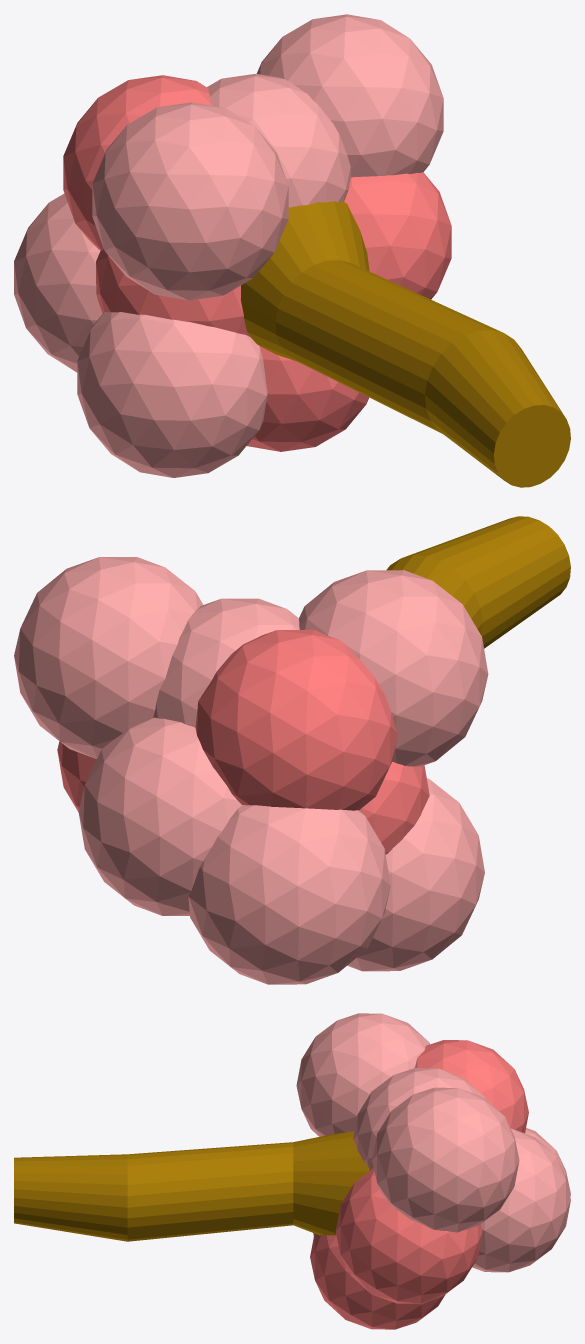
The model's file is tree_04.fbx.
3 views of the same model, one above another, from view 1: azimuth 30°, elevation 25°; view 2: azimuth 150°, elevation 25°; view 3: azimuth 270°, elevation 25° (orthographic). The views are drawn at different scales.
Visible parts, largest first — view 1: Mesh79, Mesh40, Mesh39, Mesh42, Mesh43, Mesh45, Mesh44, Mesh41, Mesh37, Mesh46; view 2: Mesh43, Mesh41, Mesh42, Mesh38, Mesh40, Mesh39, Mesh79, Mesh45, Mesh46, Mesh44; view 3: Mesh79, Mesh42, Mesh44, Mesh40, Mesh38, Mesh37, Mesh41, Mesh45.
Part boxes in pixels (bbox=[...]): Mesh79: bbox=[240, 201, 570, 487]; Mesh40: bbox=[92, 102, 288, 300]; Mesh39: bbox=[77, 312, 267, 477]; Mesh42: bbox=[256, 14, 443, 177]; Mesh43: bbox=[14, 193, 102, 372]; Mesh45: bbox=[207, 74, 350, 207]; Mesh44: bbox=[344, 172, 451, 299]; Mesh41: bbox=[63, 75, 211, 250]; Mesh37: bbox=[247, 346, 369, 451]; Mesh46: bbox=[96, 249, 249, 336]; Mesh43: bbox=[188, 805, 390, 984]; Mesh41: bbox=[195, 629, 397, 810]; Mesh42: bbox=[14, 557, 203, 758]; Mesh38: bbox=[78, 717, 241, 915]; Mesh40: bbox=[299, 570, 488, 766]; Mesh39: bbox=[347, 778, 484, 971]; Mesh79: bbox=[386, 516, 570, 648]; Mesh45: bbox=[153, 598, 299, 727]; Mesh46: bbox=[359, 761, 429, 854]; Mesh44: bbox=[57, 741, 96, 811]; Mesh79: bbox=[14, 1131, 369, 1241]; Mesh42: bbox=[372, 1087, 519, 1232]; Mesh44: bbox=[335, 1168, 482, 1303]; Mesh40: bbox=[296, 1013, 429, 1136]; Mesh38: bbox=[472, 1128, 570, 1272]; Mesh37: bbox=[310, 1233, 445, 1329]; Mesh41: bbox=[414, 1040, 528, 1133]; Mesh45: bbox=[353, 1068, 485, 1170].
Bounding box in the file's own units: 2656 × 2392 × 4536.
